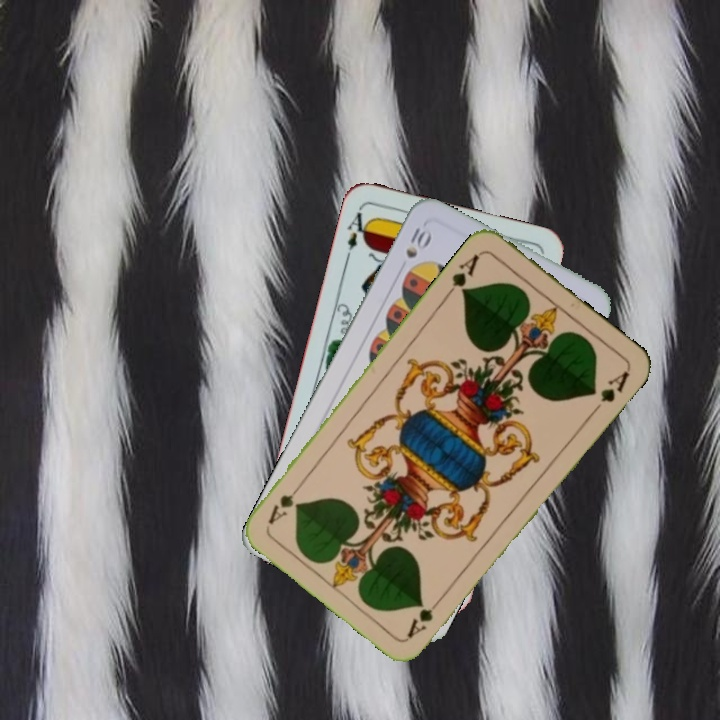EA: (341, 205, 374, 263)
GA: (403, 592, 447, 641), (442, 249, 484, 299)
S10: (401, 223, 432, 261)
